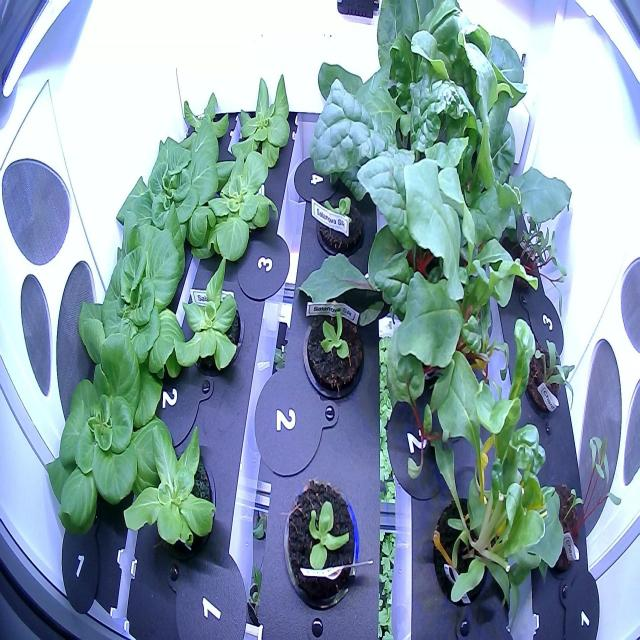young: (37, 326, 176, 552), (74, 200, 188, 409), (116, 406, 235, 580), (110, 114, 234, 265), (274, 464, 368, 617), (183, 133, 284, 268), (166, 253, 248, 383), (293, 282, 371, 408), (222, 69, 300, 172), (160, 85, 233, 177), (310, 177, 378, 269)
